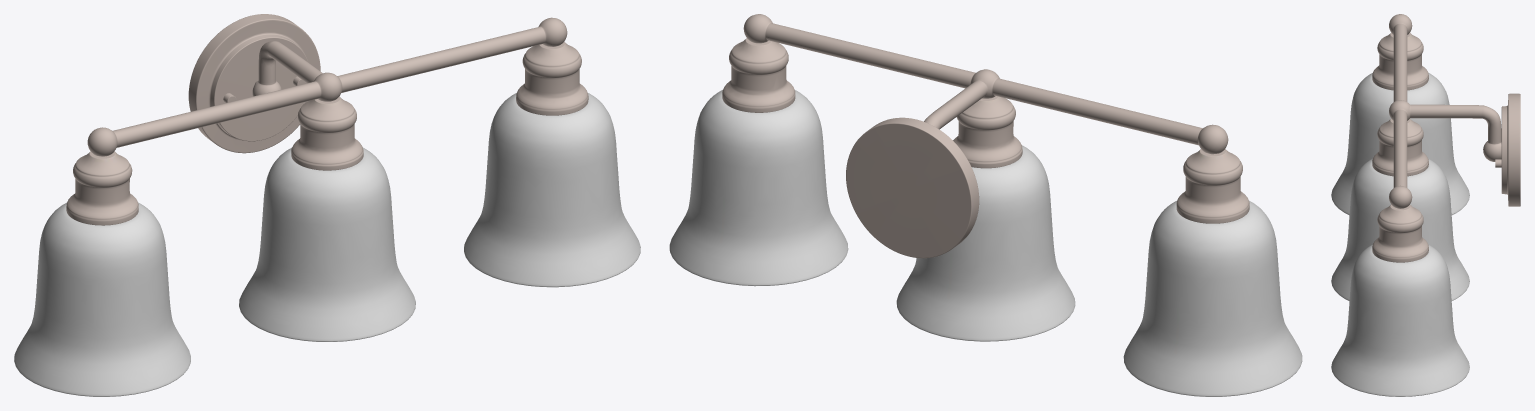
Rendered from abo-B07QJ766RB.glb.
The picture shows the model from 3 angles, left to right: view 1: azimuth 30°, elevation 25°; view 2: azimuth 150°, elevation 25°; view 3: azimuth 270°, elevation 25°; orthographic projection. The views are drawn at different scales.
Bounding box in the file's own units: 0.57 × 0.211 × 0.198.
Materials: 1 (1 with a texture image).
